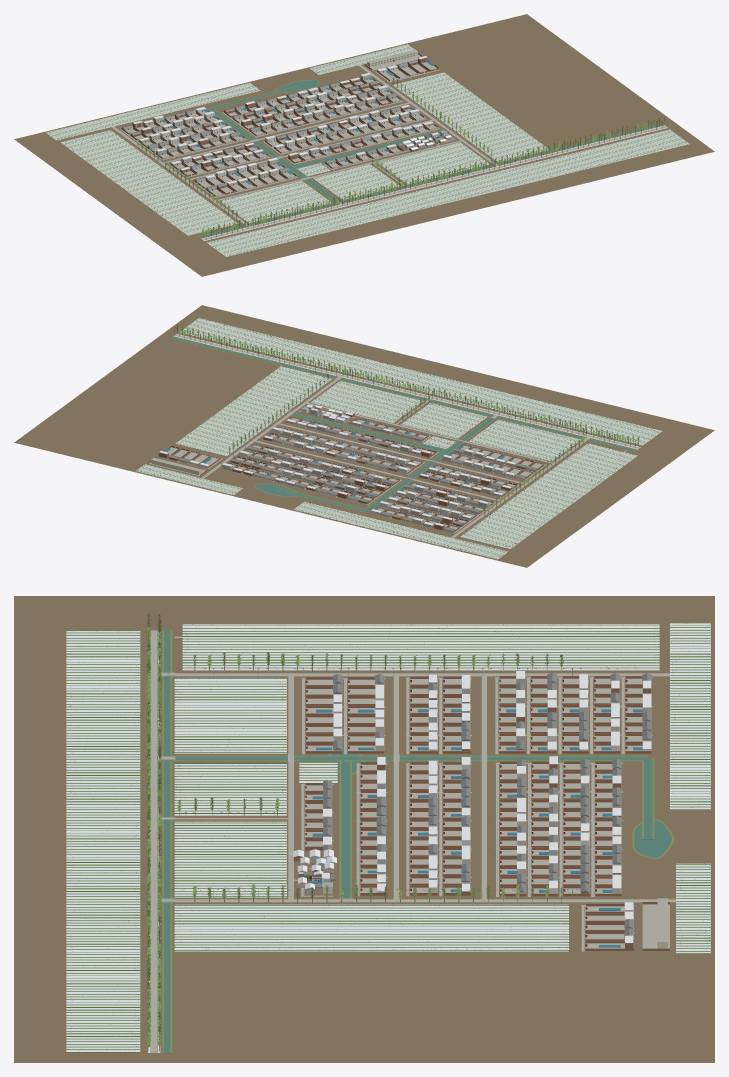
File: village.glb
The picture shows the model from 3 angles, top to bottom: view 1: azimuth 30°, elevation 25°; view 2: azimuth 150°, elevation 25°; view 3: azimuth 270°, elevation 25°; orthographic projection. The views are drawn at different scales.
Visible parts, largest first — view 1: ::MAP | earth, winter::MAP | snow, green::MAP | crop rows, ::MAP | concrete roads, ::MAP | red brick, leaves::MAP | poplar foliage, ::MAP | house plaster 2, ::MAP | still canal water, ::MAP | grey roof tiles, ::MAP | house plaster 1, ::MAP | house plaster 0, ::MAP | bank grasses (+4 smaller); view 2: ::MAP | earth, winter::MAP | snow, green::MAP | crop rows, ::MAP | concrete roads, ::MAP | red brick, ::MAP | house plaster 2, ::MAP | still canal water, leaves::MAP | poplar foliage, ::MAP | house plaster 0, ::MAP | house plaster 1, ::MAP | grey roof tiles, ::MAP | bank grasses (+2 smaller); view 3: ::MAP | earth, winter::MAP | snow, green::MAP | crop rows, ::MAP | concrete roads, ::MAP | red brick, ::MAP | still canal water, ::MAP | grey roof tiles, leaves::MAP | poplar foliage, ::MAP | bank grasses, ::MAP | poplar bark, ::MAP | blue sheet roofs, ::MAP | house plaster 2 (+4 smaller).
Part boxes in pixels (x1,y1,x2,y2): ::MAP | earth: (14, 14, 714, 276); winter::MAP | snow: (45, 44, 689, 256); green::MAP | crop rows: (46, 44, 688, 256); ::MAP | concrete roads: (111, 49, 667, 240); ::MAP | red brick: (121, 53, 438, 196); leaves::MAP | poplar foliage: (137, 77, 668, 237); ::MAP | house plaster 2: (122, 72, 438, 196); ::MAP | still canal water: (198, 80, 663, 237); ::MAP | grey roof tiles: (122, 60, 417, 189); ::MAP | house plaster 1: (139, 64, 418, 184); ::MAP | house plaster 0: (160, 65, 427, 188); ::MAP | bank grasses: (197, 79, 663, 238); ::MAP | earth: (14, 305, 714, 567); winter::MAP | snow: (136, 318, 662, 559); green::MAP | crop rows: (136, 318, 661, 558); ::MAP | concrete roads: (149, 334, 639, 537); ::MAP | red brick: (148, 417, 544, 532); ::MAP | house plaster 2: (222, 416, 543, 532); ::MAP | still canal water: (171, 337, 636, 511); leaves::MAP | poplar foliage: (174, 326, 639, 514); ::MAP | house plaster 0: (189, 419, 532, 515); ::MAP | house plaster 1: (179, 418, 508, 527); ::MAP | grey roof tiles: (169, 419, 536, 530); ::MAP | bank grasses: (170, 337, 636, 512); ::MAP | earth: (14, 596, 714, 1062); winter::MAP | snow: (66, 623, 710, 1052); green::MAP | crop rows: (66, 625, 710, 1052); ::MAP | concrete roads: (150, 630, 675, 1052); ::MAP | red brick: (305, 674, 669, 950); ::MAP | still canal water: (164, 630, 671, 1052); ::MAP | grey roof tiles: (323, 673, 651, 937); leaves::MAP | poplar foliage: (146, 613, 563, 1047); ::MAP | bank grasses: (162, 630, 673, 1053); ::MAP | poplar bark: (147, 614, 563, 1050); ::MAP | blue sheet roofs: (312, 709, 642, 947); ::MAP | house plaster 2: (305, 680, 651, 895).
Size of the model in its own units: 881 by 17.35 by 559.
